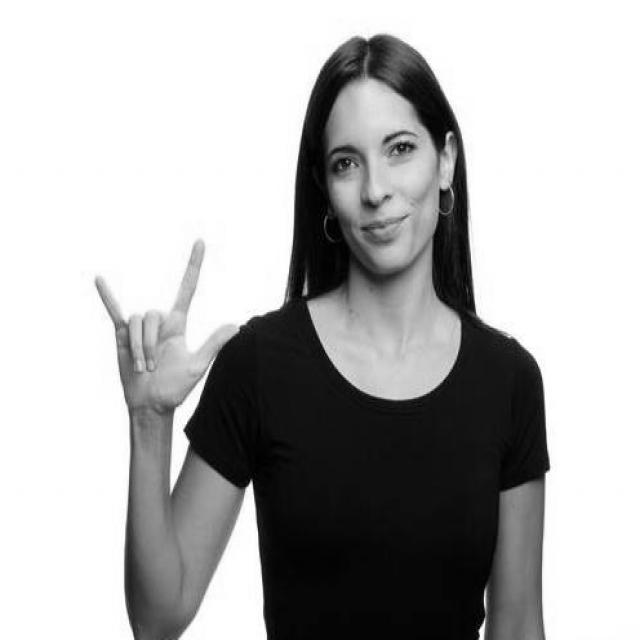i love you: (89, 230, 245, 437)
